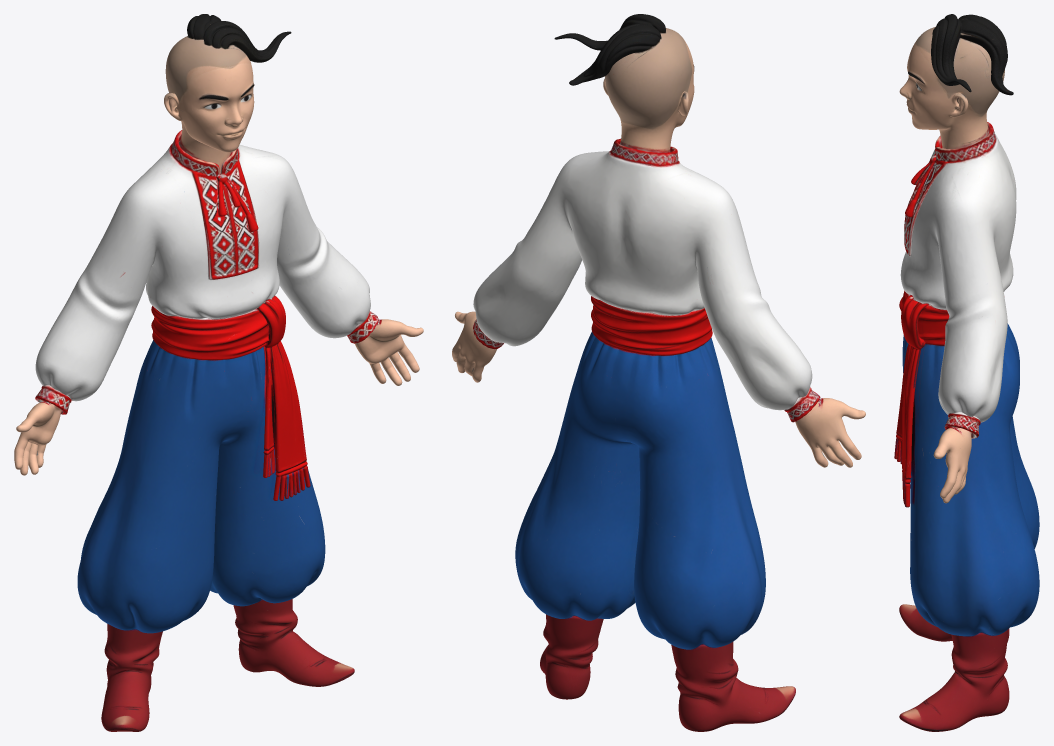
The model's file is djura_meshy.glb.
3 renders of one model, left to right at view 1: azimuth 30°, elevation 25°; view 2: azimuth 150°, elevation 25°; view 3: azimuth 270°, elevation 25°, orthographic. The views are drawn at different scales.
Bounding box in the file's own units: 1.2 × 1.9 × 0.3767.
Materials: 1 (1 with a texture image).
